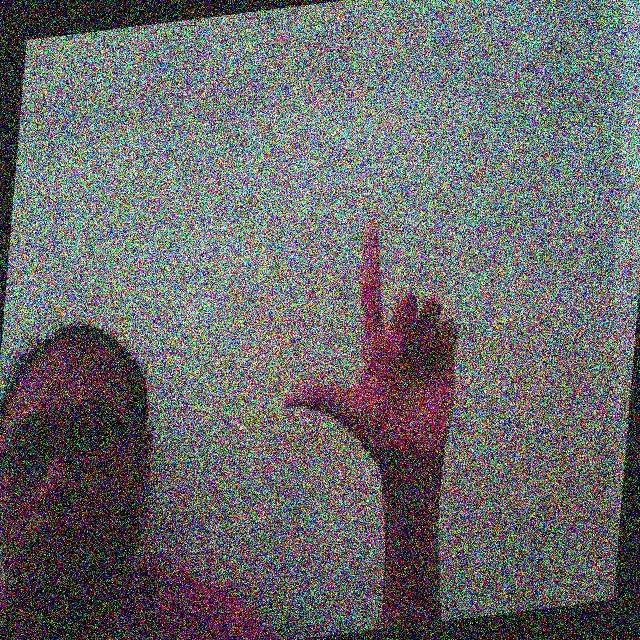L: (280, 215, 459, 438)
